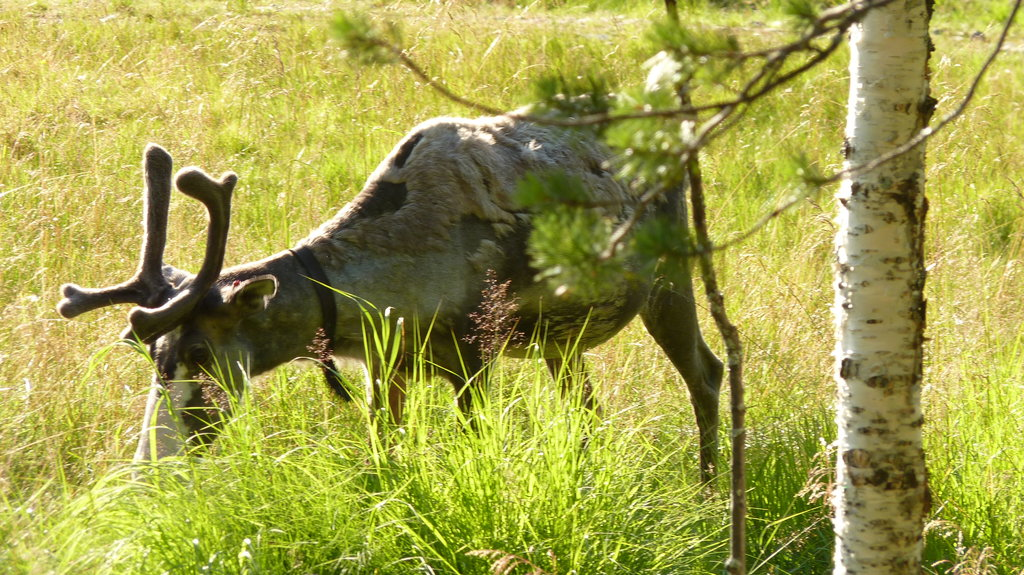Animal: (52, 94, 723, 491)
